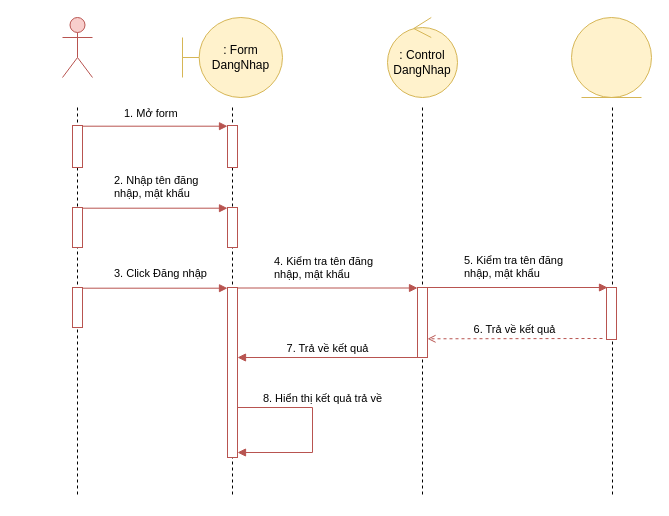
This 669x516 diagram has some shape labels left out. The shapes that lost their labels are listed below. From the top down, each one's centre as x and y in pixels, then its label:
At (77,47): "Giáo vụ, Cán bộ coi thi".
At (611,57): ": TaiKhoan".
